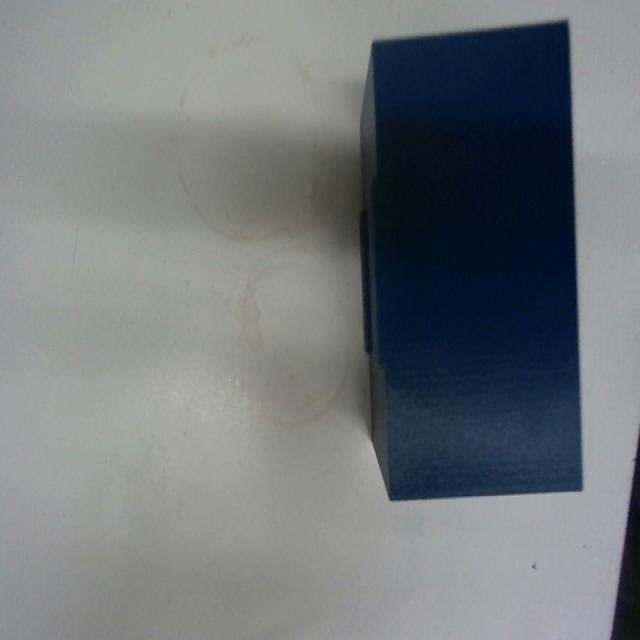Blue Cuboid: (355, 16, 585, 503)
